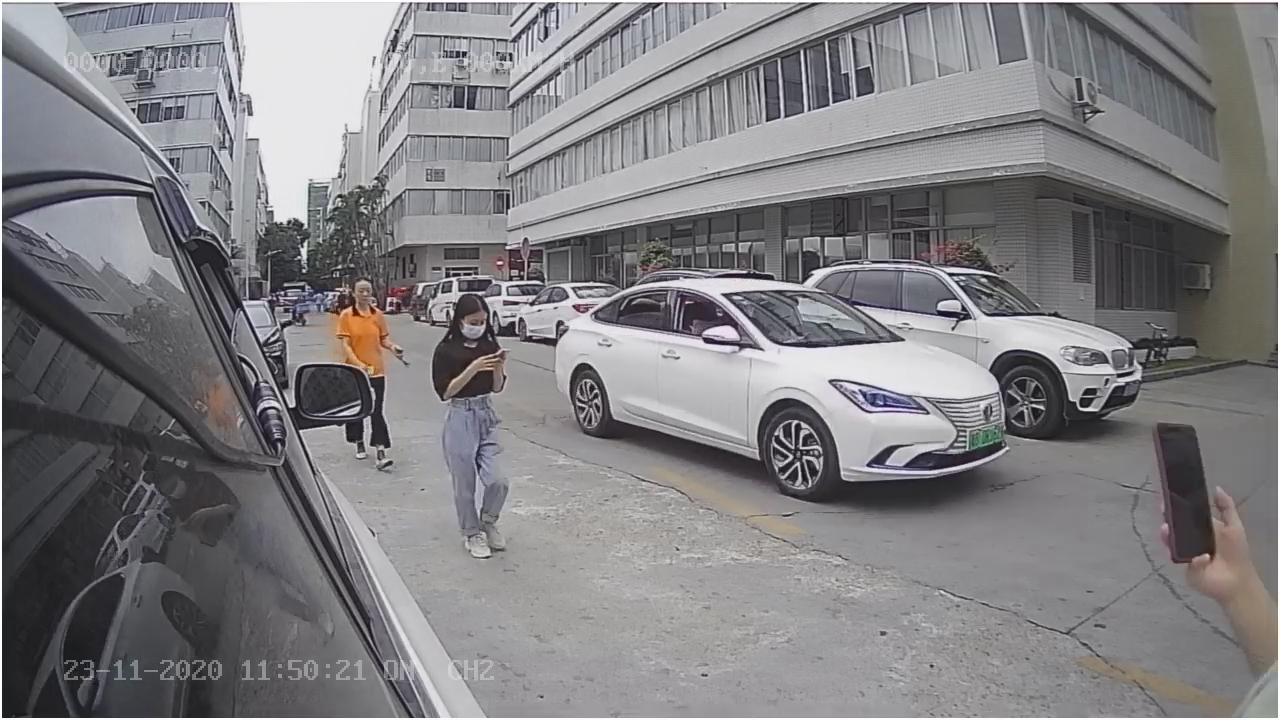person: (431, 289, 519, 561)
